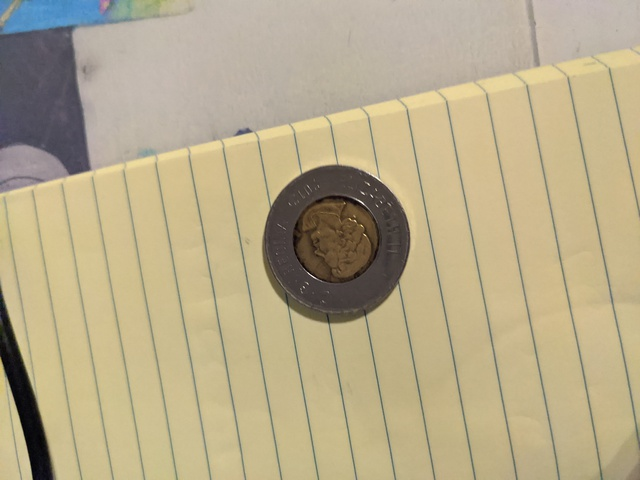twonie: (255, 156, 423, 324)
